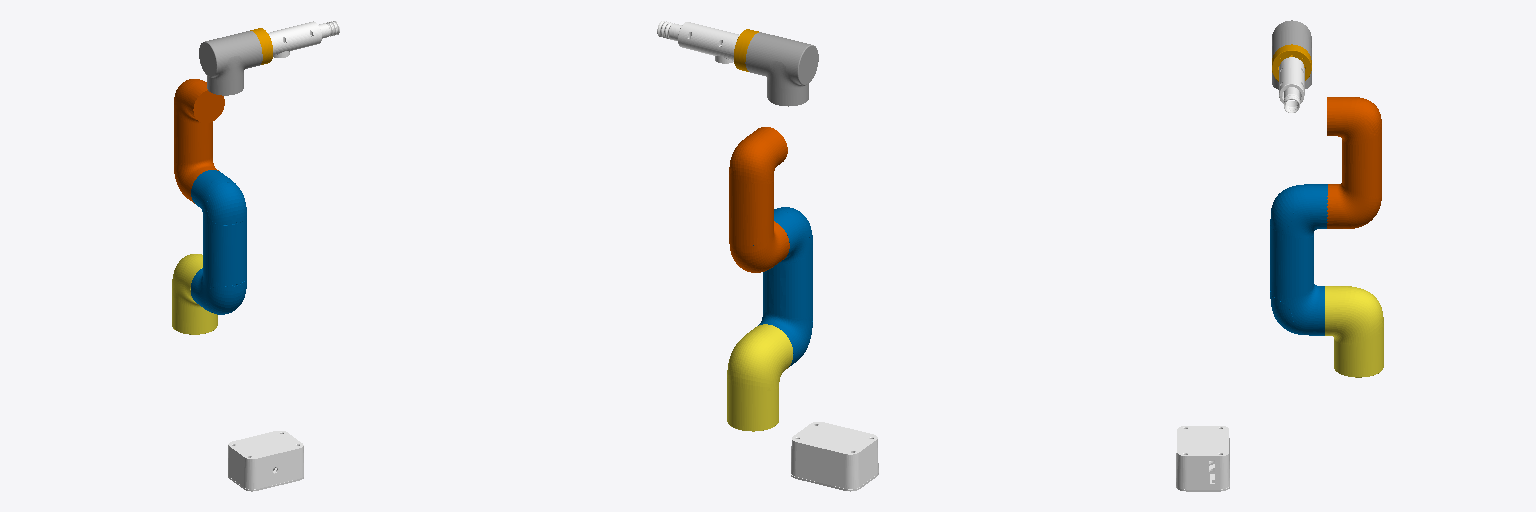
robot.urdf — firefighter:
<?xml version='1.0' encoding='utf-8'?>
<robot name="firefighter">
  <link name="g_base">
    <!-- placeholder inertial added by normalize_urdf.py - replace with CAD values -->
    <inertial>
      <origin xyz="0 0 0" rpy="0 0 0" />
      <mass value="0.1" />
      <inertia ixx="3.600e-05" ixy="0" ixz="0" iyy="3.600e-05" iyz="0" izz="3.600e-05" />
    </inertial>
    <visual>
      <geometry>
        <mesh filename="../../meshes/G_base.dae" />
      </geometry>
      <origin xyz="0.0 0 -0.03" rpy="0 0 1.5708" />
    </visual>
    <collision>
      <geometry>
        <mesh filename="../../meshes/G_base.dae" />
      </geometry>
      <origin xyz="0.0 0 -0.03" rpy="0 0 1.5708" />
    </collision>
  </link>
  <link name="pump_box">
    <!-- placeholder inertial added by normalize_urdf.py - replace with CAD values -->
    <inertial>
      <origin xyz="0 0 0" rpy="0 0 0" />
      <mass value="0.1" />
      <inertia ixx="3.600e-05" ixy="0" ixz="0" iyy="3.600e-05" iyz="0" izz="3.600e-05" />
    </inertial>
    <visual>
      <geometry>
        <mesh filename="../../meshes/pump_box.dae" />
      </geometry>
      <origin xyz="0.0 -0.15 -0.0" rpy="1.5708 3.14159 0" />
    </visual>
    <!-- collision origin aligned with visual (was copy-pasted from the mirrored link) -->
    <collision>
      <geometry>
        <mesh filename="../../meshes/pump_box.dae" />
      </geometry>
      <origin xyz="0.0 -0.15 -0.0" rpy="1.5708 3.14159 0" />
    </collision>
  </link>
  <link name="joint1">
    <!-- placeholder inertial added by normalize_urdf.py - replace with CAD values -->
    <inertial>
      <origin xyz="0 0 0" rpy="0 0 0" />
      <mass value="0.1" />
      <inertia ixx="3.600e-05" ixy="0" ixz="0" iyy="3.600e-05" iyz="0" izz="3.600e-05" />
    </inertial>
    <visual>
      <geometry>
        <!--- 0.0 0 -0.04  1.5708 3.14159-->
        <mesh filename="../../meshes/joint1_pi.dae" />
      </geometry>
      <origin xyz="0.0 0 0 " rpy=" 0 0 0" />
    </visual>
    <collision>
      <geometry>
        <!--- 0.0 0 -0.04  1.5708 3.14159-->
        <mesh filename="../../meshes/joint1_pi.dae" />
      </geometry>
      <origin xyz="0.0 0 0 " rpy=" 0 0 0" />
    </collision>
  </link>
  <link name="joint2">
    <!-- placeholder inertial added by normalize_urdf.py - replace with CAD values -->
    <inertial>
      <origin xyz="0 0 0" rpy="0 0 0" />
      <mass value="0.1" />
      <inertia ixx="3.600e-05" ixy="0" ixz="0" iyy="3.600e-05" iyz="0" izz="3.600e-05" />
    </inertial>
    <visual>
      <geometry>
        <mesh filename="../../meshes/joint2.dae" />
      </geometry>
      <origin xyz="0.0 0 -0.06096 " rpy=" 0 0 -1.5708" />
    </visual>
    <collision>
      <geometry>
        <mesh filename="../../meshes/joint2.dae" />
      </geometry>
      <origin xyz="0.0 0 -0.06096 " rpy=" 0 0 -1.5708" />
    </collision>
  </link>
  <link name="joint3">
    <!-- placeholder inertial added by normalize_urdf.py - replace with CAD values -->
    <inertial>
      <origin xyz="0 0 0" rpy="0 0 0" />
      <mass value="0.1" />
      <inertia ixx="3.600e-05" ixy="0" ixz="0" iyy="3.600e-05" iyz="0" izz="3.600e-05" />
    </inertial>
    <visual>
      <geometry>
        <mesh filename="../../meshes/joint3.dae" />
      </geometry>
      <origin xyz="0.0 0 0.03256 " rpy=" 0 -1.5708 0" />
    </visual>
    <collision>
      <geometry>
        <mesh filename="../../meshes/joint3.dae" />
      </geometry>
      <origin xyz="0.0 0 0.03256 " rpy=" 0 -1.5708 0" />
    </collision>
  </link>
  <link name="joint4">
    <!-- placeholder inertial added by normalize_urdf.py - replace with CAD values -->
    <inertial>
      <origin xyz="0 0 0" rpy="0 0 0" />
      <mass value="0.1" />
      <inertia ixx="3.600e-05" ixy="0" ixz="0" iyy="3.600e-05" iyz="0" izz="3.600e-05" />
    </inertial>
    <visual>
      <geometry>
        <!--- 0.0 0 -0.04 -->
        <mesh filename="../../meshes/joint4.dae" />
      </geometry>
      <origin xyz="0.0 0 0.03056 " rpy=" 0 -1.5708 0" />
    </visual>
    <collision>
      <geometry>
        <!--- 0.0 0 -0.04 -->
        <mesh filename="../../meshes/joint4.dae" />
      </geometry>
      <origin xyz="0.0 0 0.03056 " rpy=" 0 -1.5708 0" />
    </collision>
  </link>
  <link name="joint5">
    <!-- placeholder inertial added by normalize_urdf.py - replace with CAD values -->
    <inertial>
      <origin xyz="0 0 0" rpy="0 0 0" />
      <mass value="0.1" />
      <inertia ixx="3.600e-05" ixy="0" ixz="0" iyy="3.600e-05" iyz="0" izz="3.600e-05" />
    </inertial>
    <visual>
      <geometry>
        <!--- 0.0 0 -0.04 -->
        <mesh filename="../../meshes/joint5.dae" />
      </geometry>
      <origin xyz="0.0 0 -0.03356 " rpy=" 0 -1.5708 1.5708" />
    </visual>
    <collision>
      <geometry>
        <!--- 0.0 0 -0.04 -->
        <mesh filename="../../meshes/joint5.dae" />
      </geometry>
      <origin xyz="0.0 0 -0.03356 " rpy=" 0 -1.5708 1.5708" />
    </collision>
  </link>
  <link name="joint6">
    <!-- placeholder inertial added by normalize_urdf.py - replace with CAD values -->
    <inertial>
      <origin xyz="0 0 0" rpy="0 0 0" />
      <mass value="0.1" />
      <inertia ixx="3.600e-05" ixy="0" ixz="0" iyy="3.600e-05" iyz="0" izz="3.600e-05" />
    </inertial>
    <visual>
      <geometry>
        <!--- 0.0 0 -0.04 -->
        <mesh filename="../../meshes/joint6.dae" />
      </geometry>
      <origin xyz="0 0.00 -0.038 " rpy=" 0 0 0" />
    </visual>
    <collision>
      <geometry>
        <!--- 0.0 0 -0.04 -->
        <mesh filename="../../meshes/joint6.dae" />
      </geometry>
      <origin xyz="0 0.00 -0.038 " rpy=" 0 0 0" />
    </collision>
  </link>
  <link name="joint6_flange">
    <!-- placeholder inertial added by normalize_urdf.py - replace with CAD values -->
    <inertial>
      <origin xyz="0 0 0" rpy="0 0 0" />
      <mass value="0.1" />
      <inertia ixx="3.600e-05" ixy="0" ixz="0" iyy="3.600e-05" iyz="0" izz="3.600e-05" />
    </inertial>
    <visual>
      <geometry>
        <!--- 0.0 0 -0.04 -->
        <mesh filename="../../meshes/joint7.dae" />
      </geometry>
      <origin xyz="0.0 0 -0.012 " rpy=" 0 0 0" />
    </visual>
    <collision>
      <geometry>
        <!--- 0.0 0 -0.04 -->
        <mesh filename="../../meshes/joint7.dae" />
      </geometry>
      <origin xyz="0.0 0 -0.012 " rpy=" 0 0 0" />
    </collision>
  </link>
  <link name="pump_head">
    <!-- placeholder inertial added by normalize_urdf.py - replace with CAD values -->
    <inertial>
      <origin xyz="0 0 0" rpy="0 0 0" />
      <mass value="0.1" />
      <inertia ixx="3.600e-05" ixy="0" ixz="0" iyy="3.600e-05" iyz="0" izz="3.600e-05" />
    </inertial>
    <visual>
      <geometry>
        <mesh filename="../../meshes/pump_head.dae" />
      </geometry>
      <origin xyz="0.0 -0.008 0.0 " rpy=" 0 0 0" />
    </visual>
    <collision>
      <geometry>
        <mesh filename="../../meshes/pump_head.dae" />
      </geometry>
      <origin xyz="0.0 -0.008 0.0 " rpy=" 0 0 0" />
    </collision>
  </link>
  <joint name="g_base_to_joint1" type="fixed">
    <axis xyz="0 0 0" />
    <limit effort="1000.0" lower="-3.14" upper="3.14159" velocity="0" />
    <parent link="g_base" />
    <child link="joint1" />
    <origin xyz="0 0 0" rpy="0 0 0" />
  </joint>
  <joint name="g_base_to_pump_box" type="fixed">
    <axis xyz="0 0 0" />
    <limit effort="1000.0" lower="-3.14" upper="3.14159" velocity="0" />
    <parent link="g_base" />
    <child link="pump_box" />
    <origin xyz="0 0 0" rpy="0 0 0" />
  </joint>
  <joint name="joint2_to_joint1" type="revolute">
    <axis xyz="0 0 1" />
    <limit effort="1000.0" lower="-3.14" upper="3.14159" velocity="2" />
    <parent link="joint1" />
    <child link="joint2" />
    <origin xyz="0 0 0.13956" rpy="0 0 0" />
  </joint>
  <joint name="joint3_to_joint2" type="revolute">
    <axis xyz="0 0 1" />
    <limit effort="1000.0" lower="-3.14" upper="3.14159" velocity="2" />
    <parent link="joint2" />
    <child link="joint3" />
    <origin xyz="0 0 -0.001" rpy="0 1.5708 -1.5708" />
  </joint>
  <joint name="joint4_to_joint3" type="revolute">
    <axis xyz=" 0 0 1" />
    <limit effort="1000.0" lower="-3.14" upper="3.14159" velocity="2" />
    <parent link="joint3" />
    <child link="joint4" />
    <origin xyz="  -0.1104 0 0   " rpy="0 0 0" />
  </joint>
  <joint name="joint5_to_joint4" type="revolute">
    <axis xyz=" 0 0 1" />
    <limit effort="1000.0" lower="-3.14" upper="3.14159" velocity="2" />
    <parent link="joint4" />
    <child link="joint5" />
    <origin xyz="-0.096 0 0.06462" rpy="0 0 -1.5708" />
  </joint>
  <joint name="joint6_to_joint5" type="revolute">
    <axis xyz="0 0 1" />
    <limit effort="1000.0" lower="-3.14" upper="3.14159" velocity="2" />
    <parent link="joint5" />
    <child link="joint6" />
    <origin xyz="0 -0.07318 0" rpy="1.5708 -1.5708 0" />
  </joint>
  <joint name="joint6output_to_joint6" type="revolute">
    <axis xyz="0 0 1" />
    <limit effort="1000.0" lower="-3.14" upper="3.14159" velocity="2" />
    <parent link="joint6" />
    <child link="joint6_flange" />
    <origin xyz="0 0.0456 0" rpy="-1.5708 0 0" />
  </joint>
  <joint name="joint6output_to_pump_head" type="fixed">
    <!-- <axis xyz="0 0 1"/>
    <limit effort = "1000.0" lower = "-3.14" upper = "3.14159" velocity = "0"/> -->
    <parent link="joint6_flange" />
    <child link="pump_head" />
    <!-- <origin xyz= "0 0.0 0" rpy = "-1.5708 0 0"/>   -->
    <origin xyz="0 0 0.01" rpy="1.579 0 0" />
  </joint>
</robot>

--- Facts derived from the render (not from the file) ---
3 views of the same robot in one strip: view 1: azimuth 30°, elevation 25°; view 2: azimuth 150°, elevation 25°; view 3: azimuth 270°, elevation 25° (orthographic).
Model firefighter with 10 links and 9 joints (6 revolute, 3 fixed), rooted at g_base, posed all joints at 0.
Links seen in each view (by area): view 1: joint3, joint4, pump_box, joint6, joint2, pump_head; view 2: joint4, joint2, joint3, pump_box, joint6, pump_head; view 3: joint3, joint4, joint2, pump_box, pump_head, joint6, joint6_flange.
Boxes of the visible links, <box> form: joint3: <box>191,170,246,314</box>; joint4: <box>174,79,224,203</box>; pump_box: <box>228,431,303,491</box>; joint6: <box>199,31,262,95</box>; joint2: <box>172,254,217,334</box>; pump_head: <box>268,21,339,57</box>; joint4: <box>729,127,789,272</box>; joint2: <box>727,324,792,431</box>; joint3: <box>753,207,812,366</box>; pump_box: <box>791,422,878,491</box>; joint6: <box>745,32,818,106</box>; pump_head: <box>657,21,739,63</box>; joint3: <box>1270,184,1327,335</box>; joint4: <box>1327,97,1381,228</box>; joint2: <box>1325,286,1383,377</box>; pump_box: <box>1176,426,1229,491</box>; pump_head: <box>1279,57,1304,112</box>; joint6: <box>1272,20,1311,89</box>; joint6_flange: <box>1272,44,1311,81</box>.
Size in the robot's own frame: 0.1709 by 0.2 by 0.4743 metres.
Meshes: 10 distinct files referenced, 7 mesh visuals loaded (7 Collada DAE); not drawn: 3 (reference not matched to a file when rendering).
